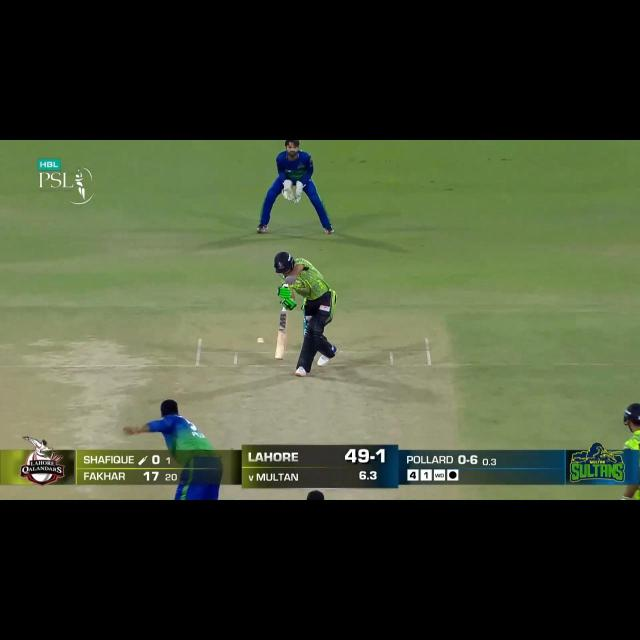bat: (272, 310, 286, 363)
toe: (271, 352, 287, 362)
